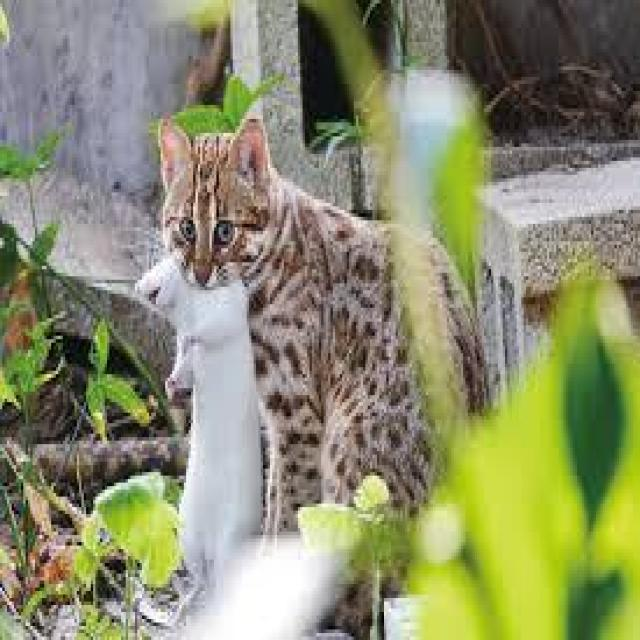leopard: (173, 96, 488, 585)
